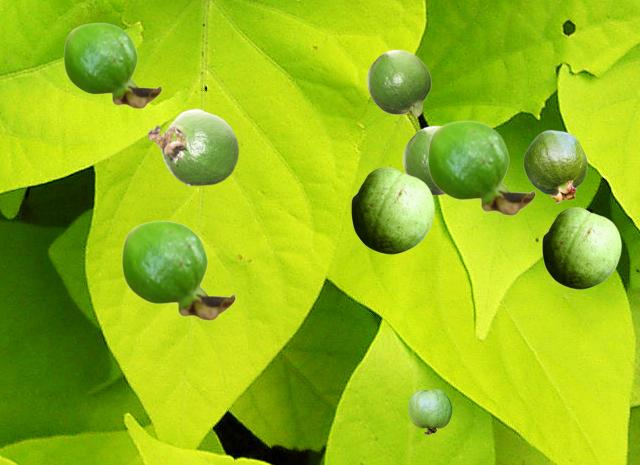guava: (121, 220, 235, 320), (427, 120, 535, 215), (63, 22, 161, 108), (351, 167, 433, 253), (147, 108, 238, 185), (542, 207, 620, 288), (523, 130, 586, 202), (366, 49, 430, 116), (402, 125, 443, 196), (408, 389, 451, 433)
